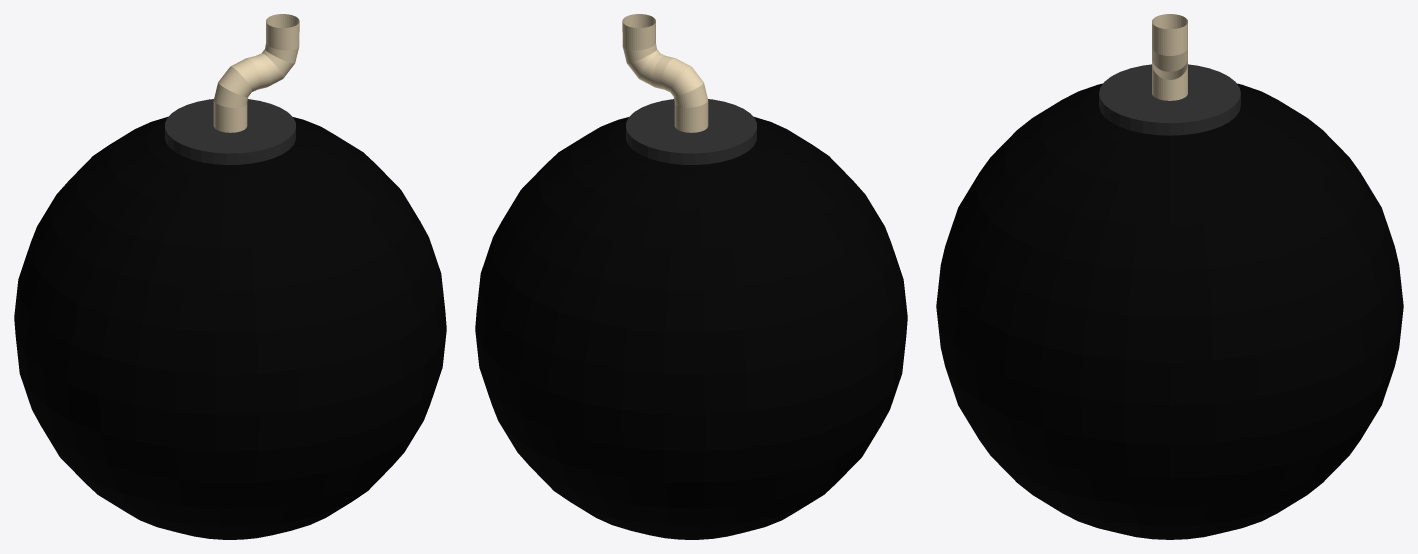
File: bomb.fbx
3 renders of one model, left to right at view 1: azimuth 30°, elevation 25°; view 2: azimuth 150°, elevation 25°; view 3: azimuth 270°, elevation 25°, orthographic. The views are drawn at different scales.
Parts seen in each view (by area): view 1: Sphere, Cylinder, Plane; view 2: Sphere, Cylinder, Plane; view 3: Sphere, Cylinder, Plane.
Part boxes in pixels (x1,y1,x2,y2): Sphere: [14, 117, 446, 539]; Cylinder: [165, 99, 295, 164]; Plane: [213, 14, 299, 132]; Sphere: [475, 116, 907, 539]; Cylinder: [626, 99, 756, 164]; Plane: [622, 14, 708, 132]; Sphere: [936, 83, 1403, 539]; Cylinder: [1099, 64, 1240, 135]; Plane: [1152, 14, 1187, 100].
Bounding box in the file's own units: 352 × 436 × 352.
